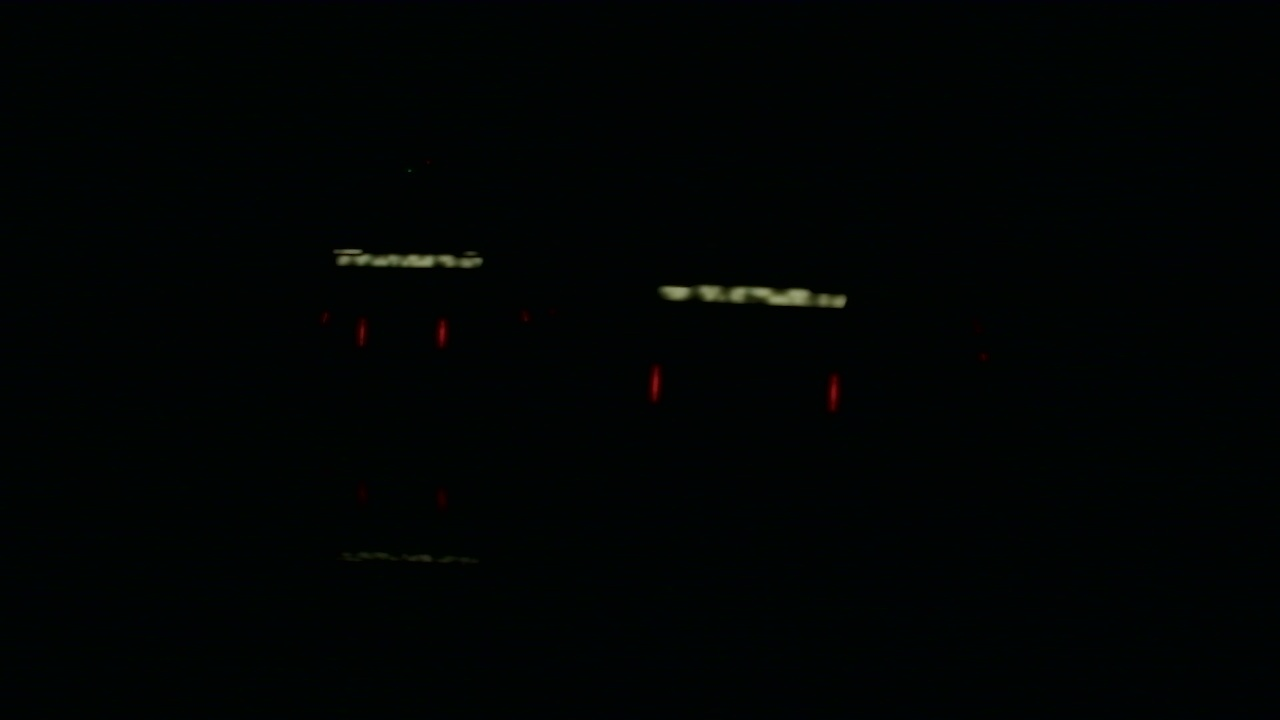lamp: (647, 361, 661, 405), (826, 370, 838, 413), (357, 315, 366, 349), (438, 316, 443, 347)
pair1: (358, 317, 445, 348)
pair2: (648, 362, 842, 417)
